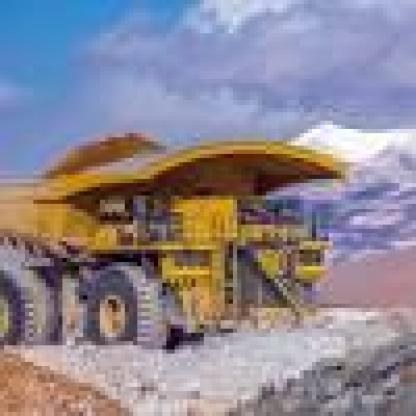dump_truck: (0, 108, 374, 374)
